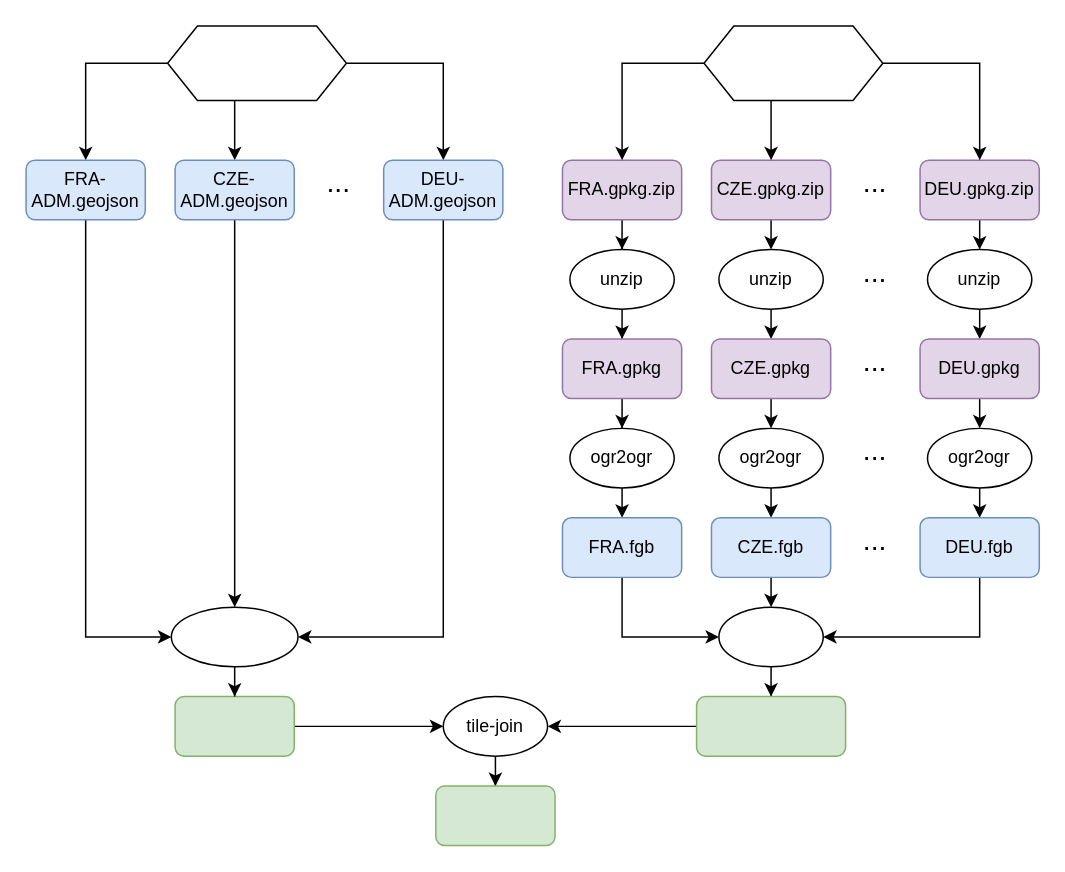
Image size: 1065x872. Some labels were removed from this diagram. The box of each missing label's shape, as (x1, y1, x2, y2) in pixels:
admin.pmtiles: (174, 695, 294, 756)
buildings.pmtiles: (695, 695, 846, 756)
EUBUCCO data API: (703, 25, 883, 101)
final.pmtiles: (434, 784, 555, 846)
geoboundaries.org data API: (166, 25, 346, 101)
tippecanoe -z0 -Z3: (170, 606, 298, 667)
tippecanoe -z4 -Z17: (717, 606, 823, 667)
